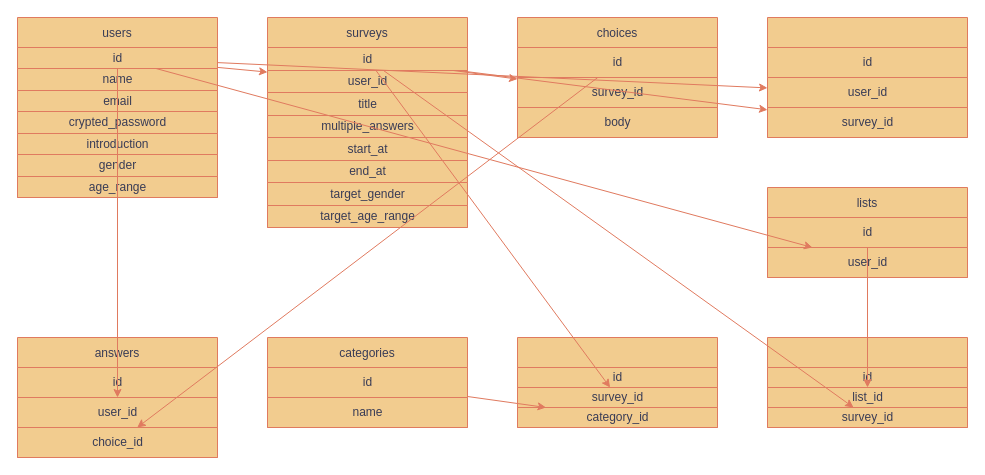
The diagram is 985 pixels wide and 475 high, and some of its shapes have lost their labels. Each missing label, with the box of its shape:
list_surveys: (766, 336, 968, 428)
reminders: (766, 16, 968, 138)
survey_categories: (516, 336, 718, 428)
